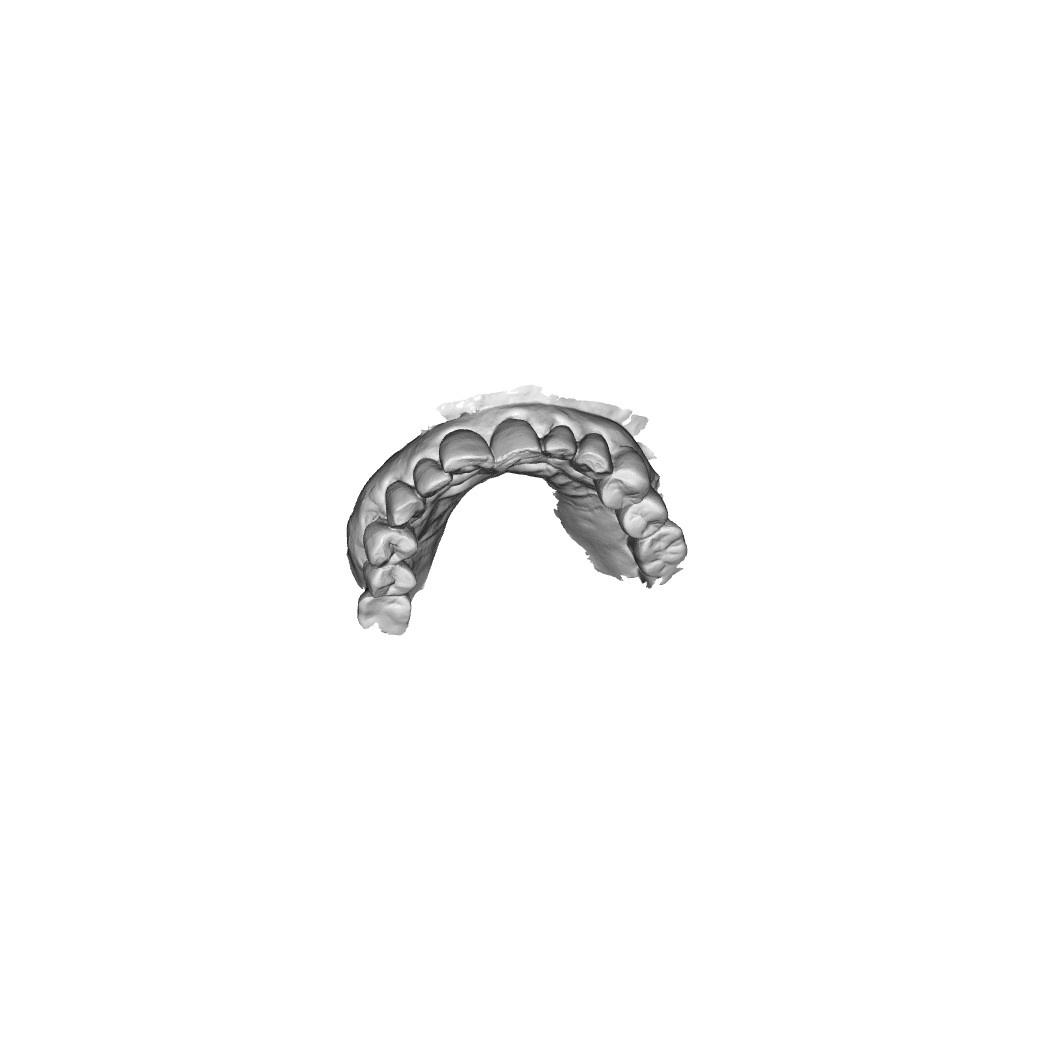canine: (571, 430, 615, 479), (384, 479, 425, 530)
incisor: (490, 416, 543, 475), (440, 429, 497, 475), (410, 457, 454, 500), (538, 423, 581, 464)
molar: (631, 521, 690, 581)
premolar: (594, 449, 655, 511), (363, 518, 419, 569), (617, 492, 670, 539), (362, 561, 417, 599)
